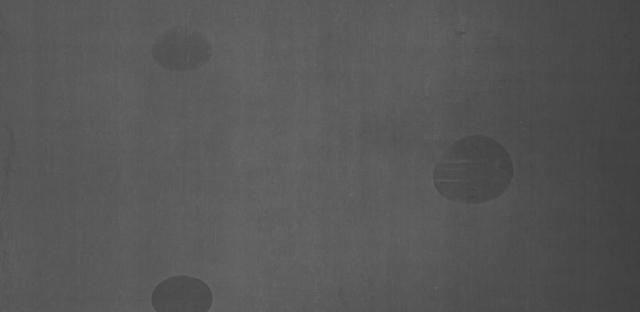oil_spot: (430, 125, 524, 210), (149, 22, 219, 73), (148, 272, 218, 312)
